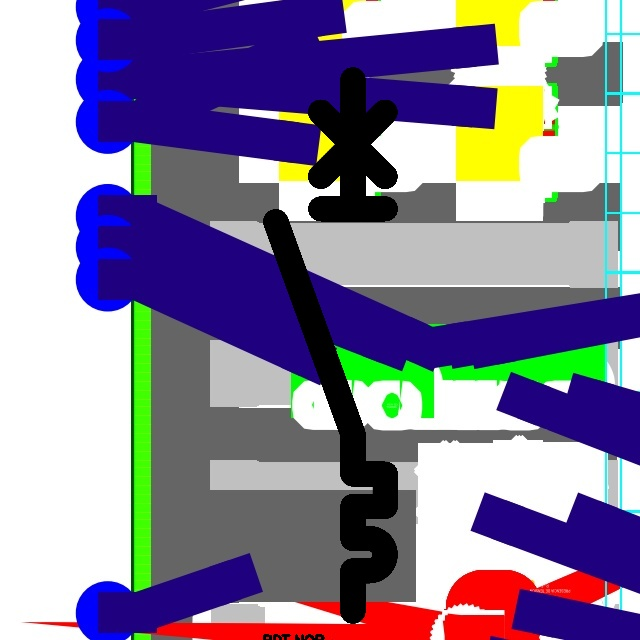interruptor_termomagnetico: (262, 66, 399, 625)
